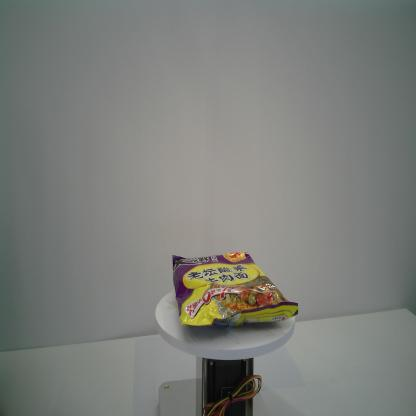Instant Noodles: (171, 248, 299, 330)
